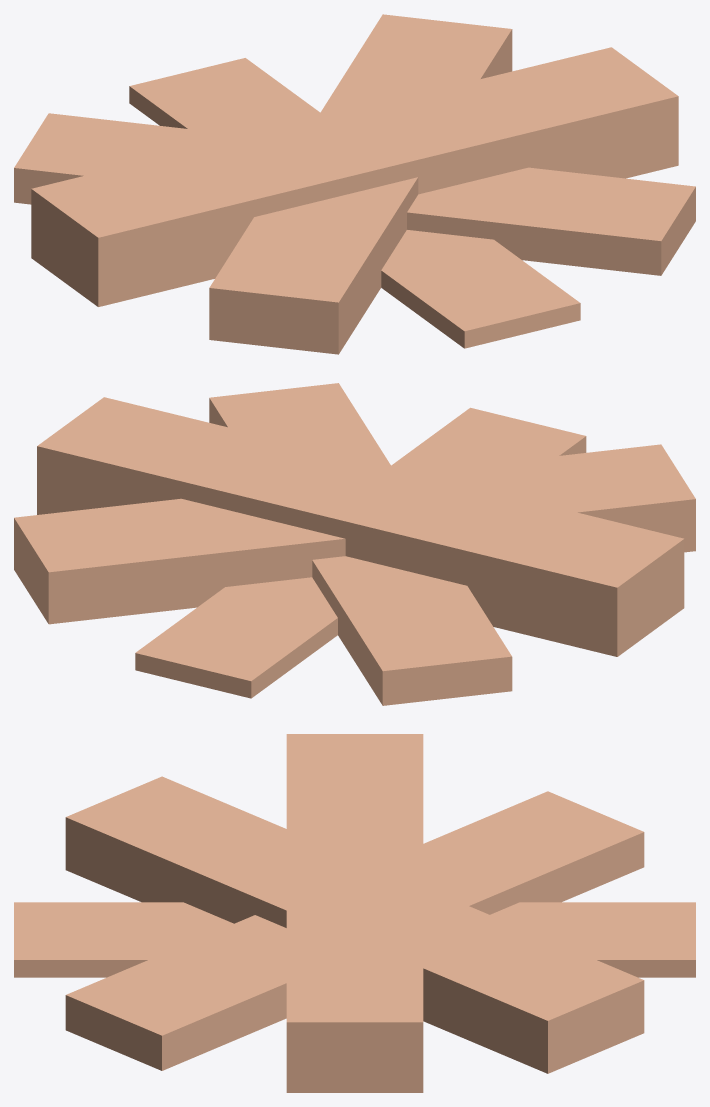
File: campfire_planks.gltf
3 renders of one model, top to bottom at view 1: azimuth 30°, elevation 25°; view 2: azimuth 150°, elevation 25°; view 3: azimuth 270°, elevation 25°, orthographic.
Parts seen in each view (by area): view 1: campfire_planks; view 2: campfire_planks; view 3: campfire_planks.
Part boxes in pixels (<box>): campfire_planks: <box>14,14,695,354</box>; campfire_planks: <box>14,383,695,705</box>; campfire_planks: <box>14,734,695,1092</box>.
Size of the model in its own units: 0.35 by 0.04 by 0.35.
